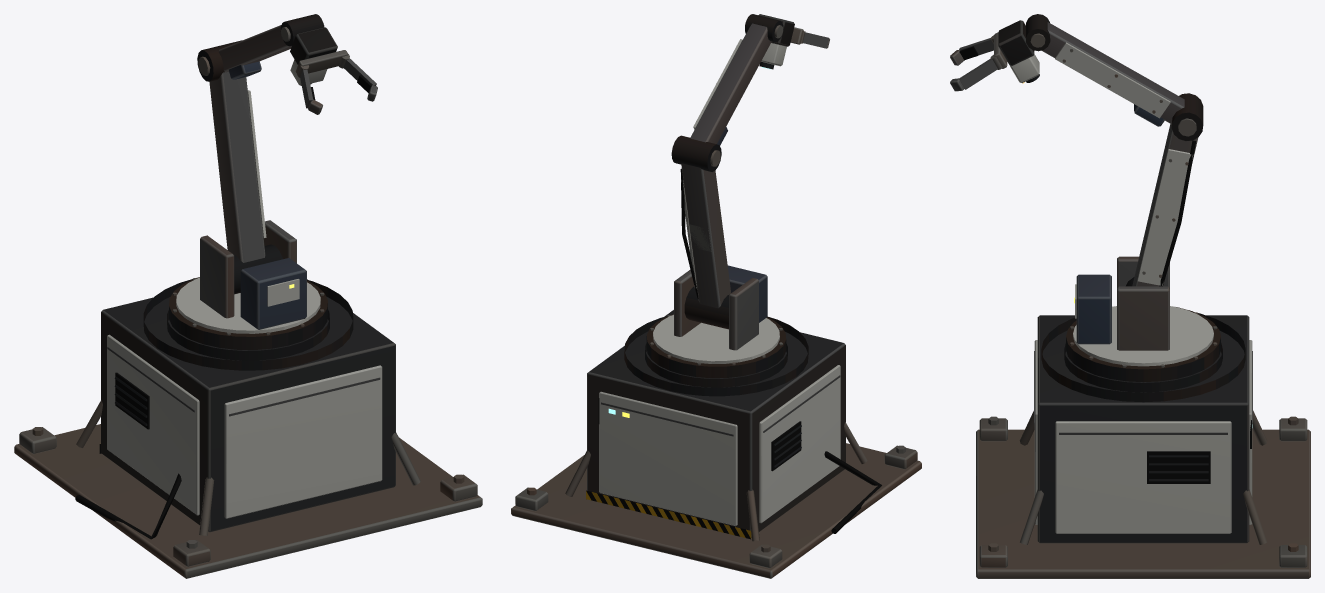
Rendered from filter_arm.glb.
3 renders of one model, left to right at view 1: azimuth 30°, elevation 25°; view 2: azimuth 150°, elevation 25°; view 3: azimuth 270°, elevation 25°, orthographic. The views are drawn at different scales.
Parts seen in each view (by area): view 1: Frame, Turret, UpperArm, Forearm, Head, ClawR; view 2: Frame, Turret, UpperArm, Forearm, Head; view 3: Frame, Turret, Forearm, UpperArm, Head, ClawR, ClawL.
Boxes of the visible parts, x1=… form: Frame: x1=14, y1=279, x2=482, y2=578; Turret: x1=169, y1=220, x2=327, y2=349; UpperArm: x1=209, y1=71, x2=282, y2=294; Forearm: x1=197, y1=25, x2=291, y2=81; Head: x1=280, y1=14, x2=347, y2=85; ClawR: x1=338, y1=54, x2=377, y2=101; Frame: x1=511, y1=310, x2=921, y2=578; Turret: x1=646, y1=265, x2=786, y2=378; UpperArm: x1=680, y1=163, x2=730, y2=329; Forearm: x1=671, y1=23, x2=771, y2=171; Head: x1=745, y1=14, x2=803, y2=69; Frame: x1=976, y1=313, x2=1310, y2=578; Turret: x1=1066, y1=256, x2=1220, y2=382; Forearm: x1=1041, y1=22, x2=1203, y2=140; UpperArm: x1=1126, y1=124, x2=1198, y2=286; Head: x1=994, y1=14, x2=1050, y2=83; ClawR: x1=950, y1=54, x2=1002, y2=91; ClawL: x1=950, y1=35, x2=994, y2=65.
Size of the model in its own units: 1.94 by 3.05 by 2.05.
